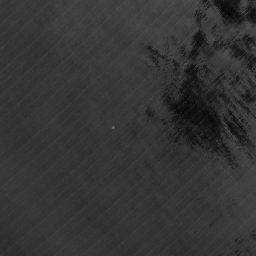Target: (110, 125, 115, 130)
